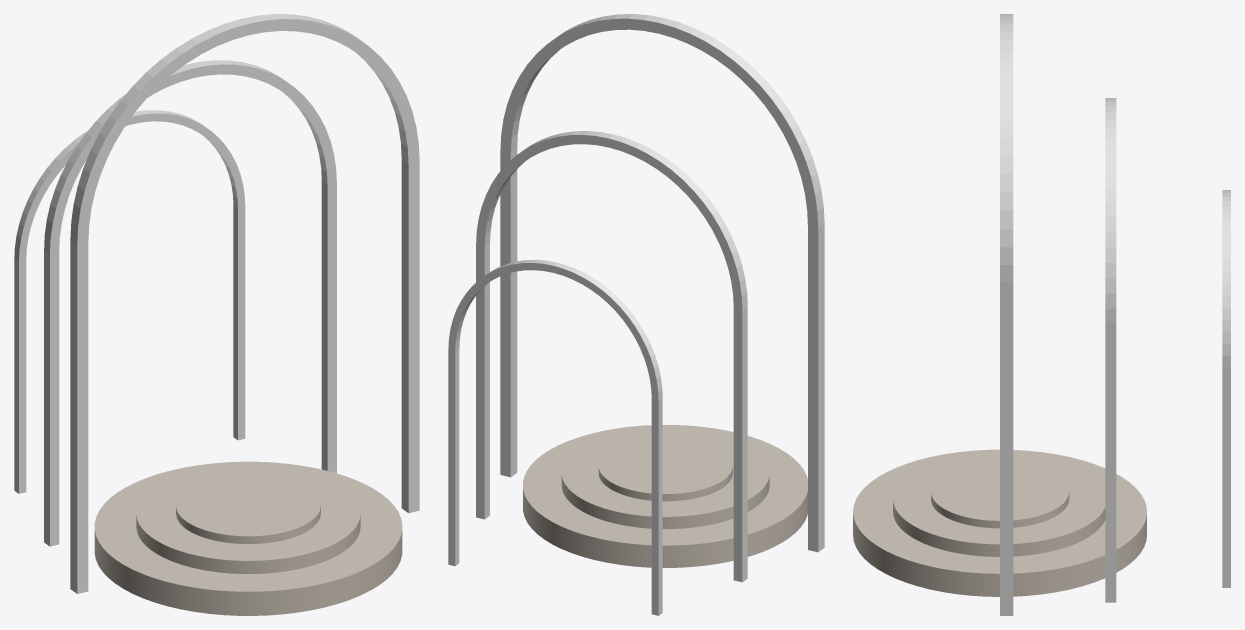
Rendered from showcase.glb.
The picture shows the model from 3 angles, left to right: view 1: azimuth 30°, elevation 25°; view 2: azimuth 150°, elevation 25°; view 3: azimuth 270°, elevation 25°; orthographic projection. The views are drawn at different scales.
Visible parts, largest first — view 1: frame, podium; view 2: frame, podium; view 3: podium, frame.
Boxes of the visible parts, bbox=[...] form: frame: bbox=[14, 14, 419, 593]; podium: bbox=[94, 461, 402, 615]; frame: bbox=[448, 14, 824, 615]; podium: bbox=[523, 424, 807, 567]; podium: bbox=[853, 449, 1146, 596]; frame: bbox=[1000, 14, 1230, 615].
Bounding box in the file's own units: 6.42 × 9.47 × 6.43.
